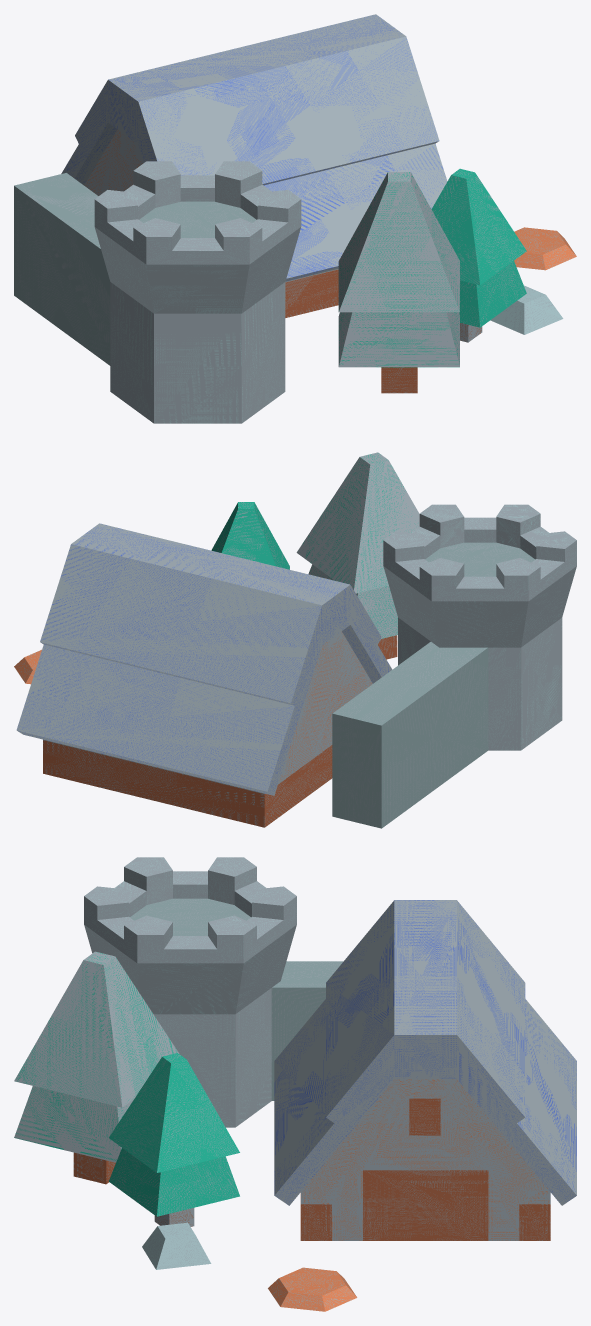
The model's file is Stable2_withoutGround.fbx.
The picture shows the model from 3 angles, top to bottom: view 1: azimuth 30°, elevation 25°; view 2: azimuth 150°, elevation 25°; view 3: azimuth 270°, elevation 25°; orthographic projection. The views are drawn at different scales.
Visible parts, largest first — view 1: Model, Group1, Group5, Group2, Group3, Group4; view 2: Group1, Model, Group5, Group2, Group3; view 3: Group1, Model, Group5, Group2, Group3, Group4.
Boxes of the visible parts, x1,y1,x2,y2 form: Model: (14,161,301,423); Group1: (61,14,447,317); Group5: (338,172,459,393); Group2: (431,168,526,342); Group3: (514,227,576,270); Group4: (490,285,563,334); Group1: (16,523,392,827); Model: (332,504,576,828); Group5: (296,452,419,659); Group2: (211,502,289,569); Group3: (14,649,41,684); Group1: (274,900,576,1240); Model: (84,857,343,1127); Group5: (14,951,179,1184); Group2: (109,1053,239,1226); Group3: (268,1267,357,1311); Group4: (142,1222,211,1269).
Bounding box in the file's own units: 0.9699 × 0.38 × 0.9004.
